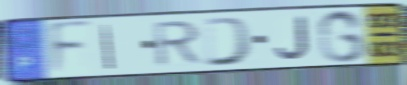D: (202, 15, 255, 68)
F: (47, 19, 94, 79)
G: (316, 8, 368, 64)
I: (100, 23, 116, 71)
J: (274, 15, 312, 62)
R: (153, 18, 206, 69)
